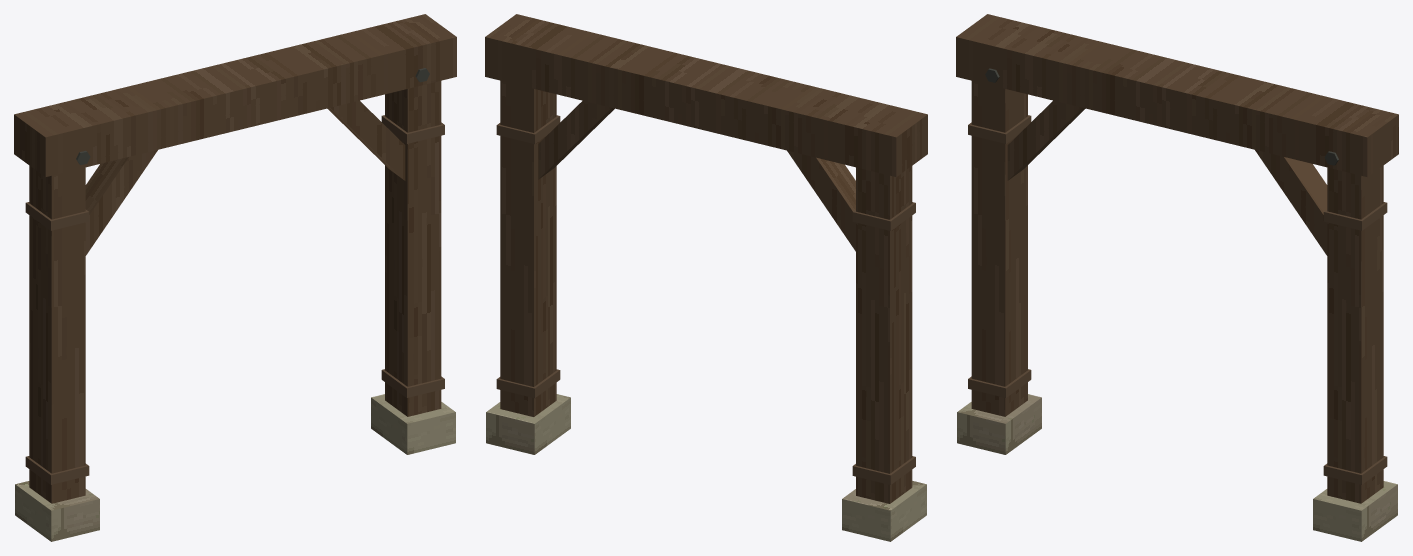
File: oak_shoring_bent.glb
3 renders of one model, left to right at view 1: azimuth 30°, elevation 25°; view 2: azimuth 150°, elevation 25°; view 3: azimuth 330°, elevation 25°, orthographic.
Parts seen in each view (by area): view 1: Oak shoring bent; view 2: Oak shoring bent; view 3: Oak shoring bent.
Boxes of the visible parts, bbox=[...] form: Oak shoring bent: bbox=[14, 14, 456, 541]; Oak shoring bent: bbox=[485, 14, 927, 541]; Oak shoring bent: bbox=[956, 14, 1398, 541].
Bounding box in the file's own units: 2 × 1.88 × 0.305.
Materials: 5 (2 with a texture image).
